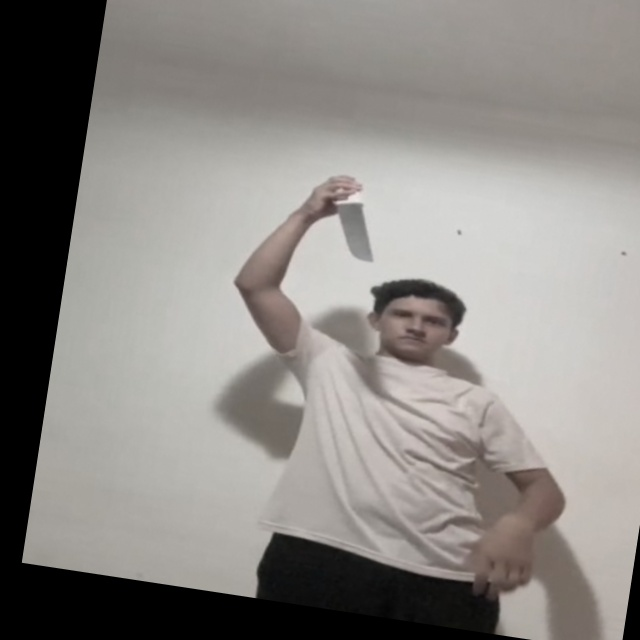Sharp-Object: (328, 204, 383, 261)
